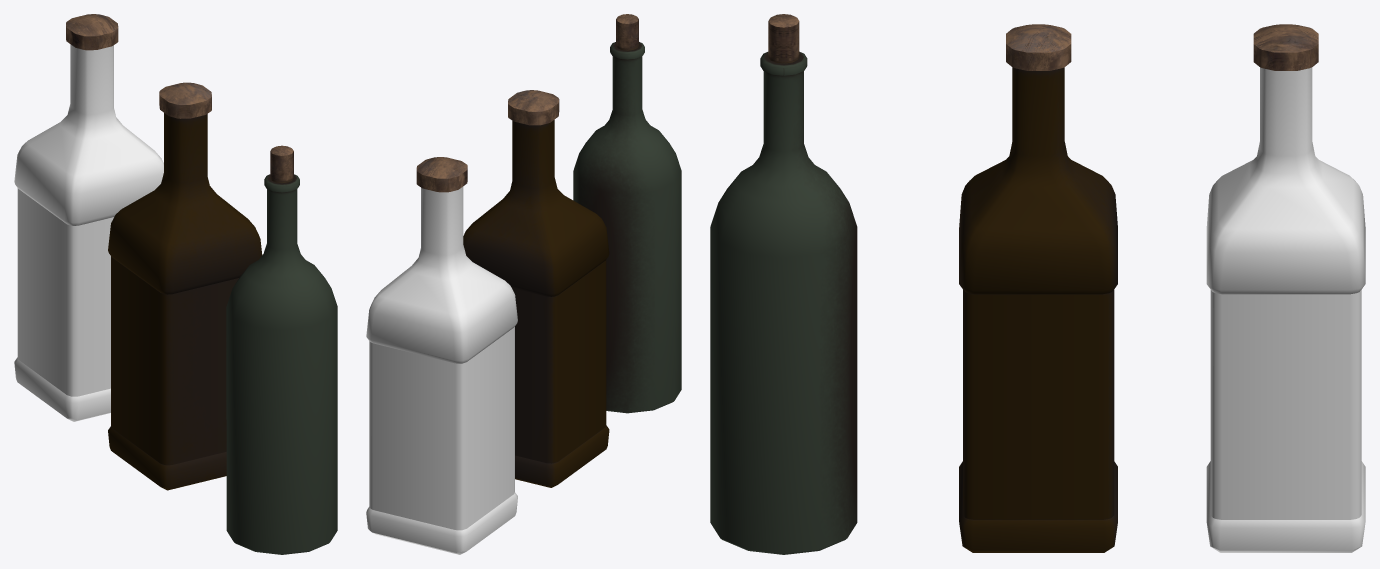
File: whiskey.fbx
The picture shows the model from 3 angles, left to right: view 1: azimuth 30°, elevation 25°; view 2: azimuth 150°, elevation 25°; view 3: azimuth 270°, elevation 25°; orthographic projection. The views are drawn at different scales.
Parts seen in each view (by area): view 1: Whiskey; view 2: Whiskey; view 3: Whiskey.
Boxes of the visible parts, x1,y1,x2,y2 form: Whiskey: (14, 14, 337, 554); Whiskey: (366, 14, 681, 554); Whiskey: (710, 14, 1365, 554).
Bounding box in the file's own units: 20.62 × 72.27 × 84.97.
3 materials, 3 textured.
